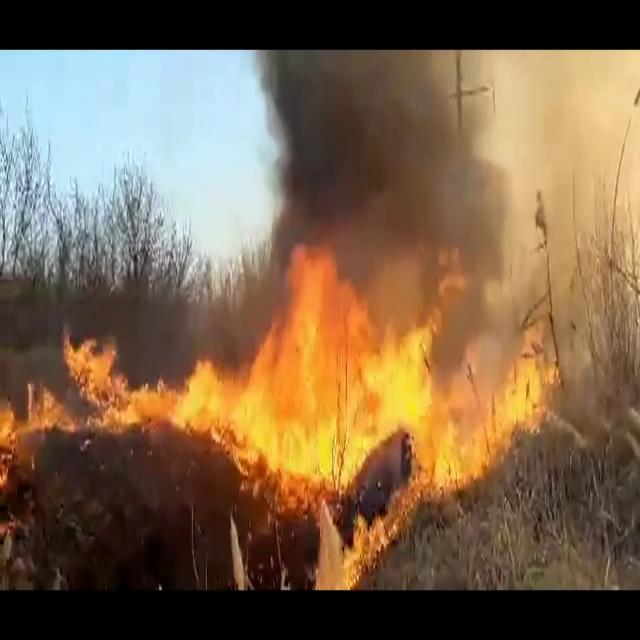Fire: (197, 246, 556, 598), (0, 322, 271, 462)
Smoke: (237, 5, 640, 292)
